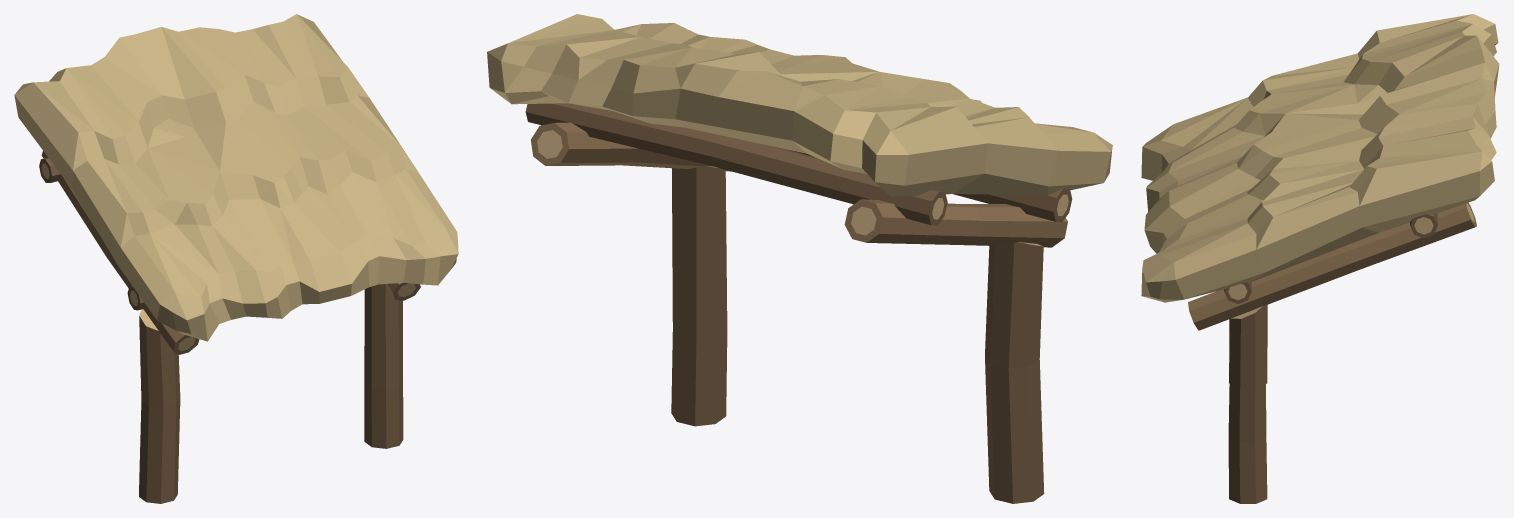
Rendered from rpgpp_ag_shed_wood_01b.fbx.
3 views of the same model, side by side, from view 1: azimuth 30°, elevation 25°; view 2: azimuth 150°, elevation 25°; view 3: azimuth 270°, elevation 25° (orthographic). The views are drawn at different scales.
Visible parts, largest first — view 1: rpgpp_ag_shed_wood_01b; view 2: rpgpp_ag_shed_wood_01b; view 3: rpgpp_ag_shed_wood_01b.
Boxes of the visible parts, x1,y1,x2,y2 form: rpgpp_ag_shed_wood_01b: [14, 14, 458, 503]; rpgpp_ag_shed_wood_01b: [487, 14, 1112, 503]; rpgpp_ag_shed_wood_01b: [1141, 14, 1499, 503].
Size of the model in its own units: 3.52 by 4.06 by 3.46.
